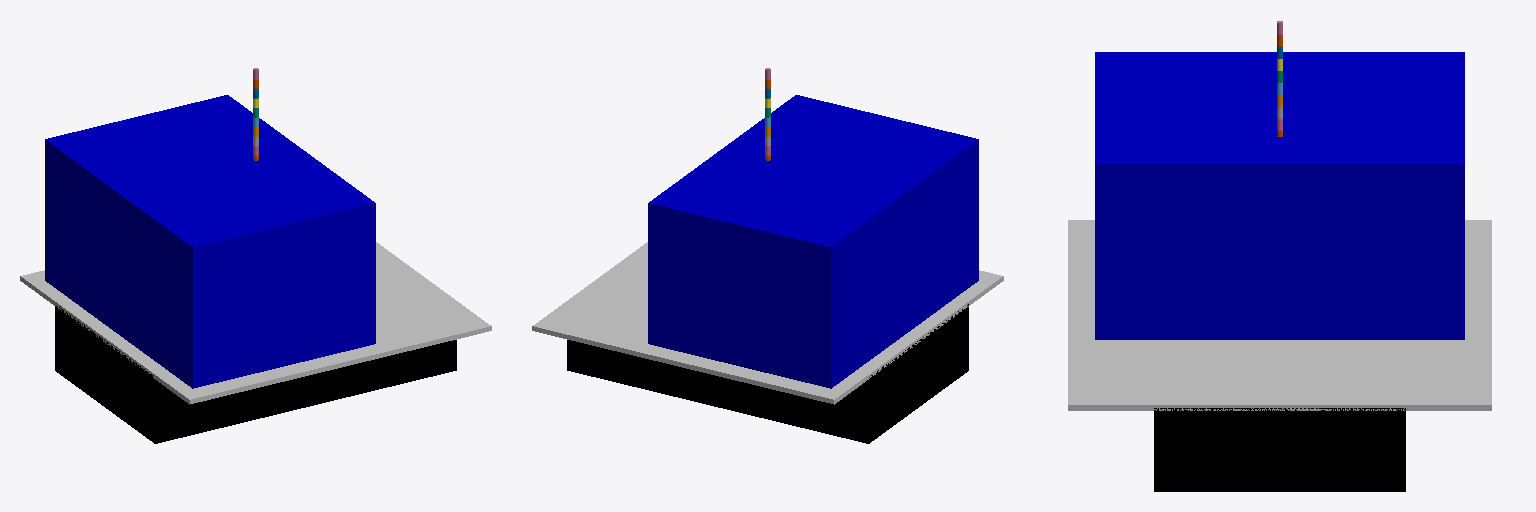
--- Render facts (derived) ---
The picture shows the robot from 3 angles, left to right: view 1: azimuth 30°, elevation 25°; view 2: azimuth 150°, elevation 25°; view 3: azimuth 270°, elevation 25°; orthographic projection.
Robot: marsupial_model — 42 links, 41 joints (2 revolute, 30 continuous, 9 fixed); root link arco/base_link; default pose: every joint at zero.
Links seen in each view (by area): view 1: arco/uav_platform, arco/base_body, arco/cover_link; view 2: arco/uav_platform, arco/base_body, arco/cover_link; view 3: arco/uav_platform, arco/cover_link, arco/base_body.
Link boxes in pixels (x1,y1,x2,y2): arco/uav_platform: (45, 95, 375, 388); arco/base_body: (55, 306, 456, 443); arco/cover_link: (20, 242, 491, 404); arco/uav_platform: (648, 95, 978, 388); arco/base_body: (567, 304, 968, 443); arco/cover_link: (532, 242, 1003, 404); arco/uav_platform: (1095, 52, 1464, 339); arco/cover_link: (1068, 220, 1491, 410); arco/base_body: (1154, 408, 1405, 491).
Bounding box of the posed robot: 0.66 × 0.64 × 0.63 m (x, y, z).
Meshes: 9 distinct files referenced, 0 mesh visuals loaded (none loaded); not drawn: 15 (reference not matched to a file when rendering).

URDF robot description (marsupial_model):
<?xml version="1.0" ?>
<!-- =================================================================================== -->
<!-- |    This document was autogenerated by xacro from arco.xacro                     | -->
<!-- |    EDITING THIS FILE BY HAND IS NOT RECOMMENDED                                 | -->
<!-- =================================================================================== -->
<robot name="marsupial_model">

<material name="black">
    <color rgba="0.0 0.0 0.0 1.0"/>
  </material>
  <material name="blue">
    <color rgba="0.0 0.0 0.8 1.0"/>
  </material>
  <material name="grey">
    <color rgba="0.8 0.8 0.8 1"/>
  </material>
  <material name="gray">
    <color rgba="0.25 0.25 0.25 1"/>
  </material>
  <material name="orange">
    <color rgba="1.0 0.4235294117647059 0.0392156862745098 1.0"/>
  </material>
  <material name="yellow">
    <color rgba="1.0 1.0 0.0 1.0"/>
  </material>
  <material name="red">
    <color rgba="0.8 0.0 0.0 1.0"/>
  </material>
  <material name="white">
    <color rgba="1.0 1.0 1.0 1.0"/>
  </material>
  <!-- ros_control plugin -->
  <gazebo>
    <plugin filename="libgazebo_ros_control.so" name="gazebo_ros_control"/>
  </gazebo>

  <selfCollide>False</selfCollide>


  <gazebo>
    <plugin filename="libgazebo_ros_planar_move_optional_tf.so" name="robot_controller">
      <commandTopic>arco/idmind_motors/set_velocities</commandTopic>
      <odometryTopic>arco/idmind_motors/gazebo_odom</odometryTopic>
      <odometryFrame>arco/odom</odometryFrame>
      <odometryRate>20.0</odometryRate>
      <robotBaseFrame>arco/base_link</robotBaseFrame>
      <publishTf>true</publishTf>
    </plugin>
  </gazebo>


    <!-- .........................................................UGV STUFF.................................................................... -->

  <link name="arco/base_link">
     <origin rpy="0.0 0.0 0.0" xyz="0 0 0.0" />
  </link>

  <link name="arco/base_body">
    <visual>
      <geometry>
        <box size="0.66 0.38 0.14"/>
      </geometry>
      <material name="black"/>
      <origin rpy="0 0 0" xyz="0 0 0.07"/>
    </visual>
    <collision>
      <geometry>
        <box size="0.66 0.38 0.14"/>
      </geometry>
      <origin rpy="0 0 0" xyz="0 0 0.07"/>
    </collision>
    <inertial>
      <mass value="200.0"/>
      <inertia ixx="2.733333333333334" ixy="0.0" ixz="0.0" iyy="7.586666666666668" iyz="0.0" izz="9.666666666666668"/>
      <origin rpy="0 0 0" xyz="0 0 0.07"/>
    </inertial>
  </link>

   <joint name="base_to_footprint" type="fixed" >
        <parent link="arco/base_link" />
        <child link="arco/base_body" />
        <origin rpy="0.0 0.0 0.0" xyz="0 0 0.0" />
    </joint>

  <link name="arco/cover_link">
    <visual>
      <geometry>
        <box size="0.66 0.64 0.01"/>
      </geometry>
      <material name="grey"/>
      <origin rpy="0 0 0" xyz="0 0 0.07"/>
    </visual>
    <collision>
      <geometry>
        <box size="0.66 0.64 0.01"/>
      </geometry>
      <origin rpy="0 0 0" xyz="0 0 0.07"/>
    </collision>
    <inertial>
      <mass value="1.0"/>
      <inertia ixx="0.03630833333333333" ixy="0.0" ixz="0.0" iyy="0.03630833333333333" iyz="0.0" izz="0.0726"/>
      <origin rpy="0 0 0" xyz="0 0 0.005"/>
    </inertial>
  </link>

  <joint name="arco_base_to_footprint" type="fixed">
    <parent link="arco/base_link"/>
    <child link="arco/cover_link"/>
    <origin rpy="0.0 0.0 0.0" xyz="0 0 0.07"/>
  </joint>

  <link name="arco/uav_platform">
    <visual>
      <geometry>
        <box size="0.4 0.56 0.3"/>
      </geometry>
      <material name="blue">
        <color rgba="0 0 0.8 1"/>
      </material>
      <origin rpy="0 0 0" xyz="-0.10 0 0.07"/>
    </visual>
    <collision>
      <geometry>
        <box size="0.4 0.56 0.3"/>
      </geometry>
      <origin rpy="0 0 0" xyz="-0.10 0 0.07"/>
    </collision>
    <inertial>
      <mass value="4.0"/>
      <inertia ixx="0.08333333333333333" ixy="0.0" ixz="0.0" iyy="0.08333333333333333" iyz="0.0" izz="0.10666666666666669"/>
      <origin rpy="0 0 0" xyz="-0.10 0 0.15"/>
    </inertial>
  </link>

  <joint name="arco_platform_for_uav" type="fixed">
    <parent link="arco/cover_link"/>
    <child link="arco/uav_platform"/>
    <origin rpy="0.0 0.0 0.0" xyz="0 0 0.15"/>
  </joint>

  <link name="arco/front_left">
    <visual>
      <geometry>
        <mesh filename="package://marsupial_description/meshes/mecanum/mecanum_wheel_left.STL" scale="0.002 0.002 0.002"/>
      </geometry>
      <origin rpy="0 0 0" xyz="0 0 0"/>
      <material name="grey"/>
    </visual>
    <collision>
      <geometry>
        <cylinder length="0.07" radius="0.1015"/>
      </geometry>
      <origin rpy="1.57 0 0" xyz="0 0 0"/>
    </collision>
    <inertial>
      <mass value="0.5"/>
      <inertia ixx="0.0014919479166666666" ixy="0" ixz="0" iyy="0.0014919479166666666" iyz="0" izz="0.0025755625"/>
      <origin rpy="1.57 0 0" xyz="0 0 0"/>
    </inertial>
  </link>

  <joint name="arco_base_to_front_left" type="continuous">
    <axis xyz="0 1 0"/>
    <limit effort="1000" velocity="75.0"/>
    <parent link="arco/base_link"/>
    <child link="arco/front_left"/>
    <joint_properties damping="30" friction="110"/>
    <origin rpy="0.0 0.0 0.0" xyz="0.2795 -0.24 0.0"/>
  </joint>

  <gazebo reference="arco/front_left">
    <material>Gazebo/Orange</material>
    <gravity>true</gravity>
    <selfCollide>false</selfCollide>
    <maxContacts>10</maxContacts>
    <dampingFactor>0.0</dampingFactor>
    <maxVel>0.0</maxVel>
    <minDepth>0.0</minDepth>
    <mu1>1.000000</mu1>
    <mu2>1.000000</mu2>
  </gazebo>

  <link name="arco/front_right">
    <visual>
      <geometry>
        <mesh filename="package://marsupial_description/meshes/mecanum/mecanum_wheel_right.STL" scale="0.002 0.002 0.002"/>
      </geometry>
      <origin rpy="0 0 0" xyz="0 0 0"/>
      <material name="grey"/>
    </visual>
    <collision>
      <geometry>
        <cylinder length="0.07" radius="0.1015"/>
      </geometry>
      <origin rpy="1.57 0 0" xyz="0 0 0"/>
    </collision>
    <inertial>
      <mass value="0.5"/>
      <inertia ixx="0.0014919479166666666" ixy="0" ixz="0" iyy="0.0014919479166666666" iyz="0" izz="0.0025755625"/>
      <origin rpy="1.57 0 0" xyz="0 0 0"/>
    </inertial>
  </link>

  <joint name="arco_base_to_front_right" type="continuous">
    <axis xyz="0 1 0"/>
    <limit effort="1000" velocity="75.0"/>
    <parent link="arco/base_link"/>
    <child link="arco/front_right"/>
    <joint_properties damping="30" friction="110"/>
    <origin rpy="0.0 0.0 0.0" xyz="0.2795 0.24 0.0"/>
  </joint>

  <gazebo reference="arco/front_right">
    <material>Gazebo/Orange</material>
    <gravity>true</gravity>
    <selfCollide>false</selfCollide>
    <maxContacts>10</maxContacts>
    <dampingFactor>0.0</dampingFactor>
    <maxVel>0.0</maxVel>
    <minDepth>0.0</minDepth>
    <mu1>1.000000</mu1>
    <mu2>1.000000</mu2>
  </gazebo>
  
  <link name="arco/rear_left">
    <visual>
      <geometry>
        <mesh filename="package://marsupial_description/meshes/mecanum/mecanum_wheel_left.STL" scale="0.002 0.002 0.002"/>
      </geometry>
      <origin rpy="0 0 0" xyz="0 0 0"/>
      <material name="grey"/>
    </visual>
    <collision>
      <geometry>
        <cylinder length="0.07" radius="0.1015"/>
      </geometry>
      <origin rpy="1.57 0 0" xyz="0 0 0"/>
    </collision>
    <inertial>
      <mass value="0.5"/>
      <inertia ixx="0.0014919479166666666" ixy="0" ixz="0" iyy="0.0014919479166666666" iyz="0" izz="0.0025755625"/>
      <origin rpy="1.57 0 0" xyz="0 0 0"/>
    </inertial>
  </link>
 
  <joint name="arco_base_to_rear_left" type="continuous">
    <axis xyz="0 1 0"/>
    <limit effort="1000" velocity="75.0"/>
    <parent link="arco/base_link"/>
    <child link="arco/rear_left"/>
    <joint_properties damping="30" friction="110"/>
    <origin rpy="0.0 0.0 0.0" xyz="-0.2795 -0.24 0.0"/>
  </joint>
  
  <gazebo reference="arco/rear_left">
    <material>Gazebo/Orange</material>
    <gravity>true</gravity>
    <selfCollide>false</selfCollide>
    <maxContacts>10</maxContacts>
    <dampingFactor>0.0</dampingFactor>
    <maxVel>0.0</maxVel>
    <minDepth>0.0</minDepth>
    <mu1>1.000000</mu1>
    <mu2>1.000000</mu2>
  </gazebo>

  <link name="arco/rear_right">
    <visual>
      <geometry>
        <mesh filename="package://marsupial_description/meshes/mecanum/mecanum_wheel_right.STL" scale="0.002 0.002 0.002"/>
      </geometry>
      <origin rpy="0 0 0" xyz="0 0 0"/>
      <material name="grey"/>
    </visual>
    <collision>
      <geometry>
        <cylinder length="0.07" radius="0.1015"/>
      </geometry>
      <origin rpy="1.57 0 0" xyz="0 0 0"/>
    </collision>
    <inertial>
      <mass value="0.5"/>
      <inertia ixx="0.0014919479166666666" ixy="0" ixz="0" iyy="0.0014919479166666666" iyz="0" izz="0.0025755625"/>
      <origin rpy="1.57 0 0" xyz="0 0 0"/>
    </inertial>
  </link>

  <joint name="arco_base_to_rear_right" type="continuous">
    <axis xyz="0 1 0"/>
    <limit effort="1000" velocity="75.0"/>
    <parent link="arco/base_link"/>
    <child link="arco/rear_right"/>
    <joint_properties damping="30" friction="110"/>
    <origin rpy="0.0 0.0 0.0" xyz="-0.2795 0.24 0.0"/>
  </joint>

  <gazebo reference="arco/rear_right">
    <material>Gazebo/Orange</material>
    <gravity>true</gravity>
    <selfCollide>false</selfCollide>
    <maxContacts>10</maxContacts>
    <dampingFactor>0.0</dampingFactor>
    <maxVel>0.0</maxVel>
    <minDepth>0.0</minDepth>
    <mu1>1.000000</mu1>
    <mu2>1.000000</mu2>
  </gazebo>

  <link name="arco/imu">
    <visual>
      <geometry>
        <mesh filename="package://marsupial_description/meshes/razor_imu/razor_imu.stl" scale="0.001 0.001 0.001"/>
      </geometry>
      <material name="red"/>
      <origin rpy="0 0 0" xyz="0 0 0"/>
    </visual>
    <collision>
      <geometry>
        <box size="0.031 0.031 0.01"/>
      </geometry>
      <origin rpy="0 0 0" xyz="0 0 0"/>
    </collision>
    <inertial>
      <mass value="0.01"/>
      <inertia ixx="8.841666666666666e-07" ixy="0.0" ixz="0.0" iyy="8.841666666666666e-07" iyz="0.0" izz="1.6016666666666666e-06"/>
      <origin rpy="0 0 0" xyz="0 0 0"/>
    </inertial>
  </link>

  <joint name="arco_base_to_imu" type="fixed">
    <parent link="arco/base_link"/>
    <child link="arco/imu"/>
    <origin rpy="0 0 0" xyz="0.12 0.0 0.1428"/>
  </joint>

  <gazebo reference="imu">
    <material>Gazebo/Red</material>
    <gravity>true</gravity>
    <sensor name="imu_sensor" type="imu">
      <always_on>true</always_on>
      <update_rate>50</update_rate>
      <visualize>true</visualize>
      <topic>__default_topic__</topic>
      <plugin filename="libgazebo_ros_imu_sensor.so" name="imu_plugin">
        <topicName>arco/imu</topicName>
        <bodyName>arco/imu</bodyName>
        <updateRateHZ>20.0</updateRateHZ>
        <gaussianNoise>0.0</gaussianNoise>
        <xyzOffset>0 0 0</xyzOffset>
        <rpyOffset>0 0 0</rpyOffset>
        <frameName>arco/imu</frameName>
      </plugin>
      <pose>0 0 0 0 0 0</pose>
    </sensor>
  </gazebo>

  <joint name="os1_sensor_base_mount_joint" type="fixed">
    <origin rpy="0 0 0" xyz="0.2795 0.0 0.14140000000000003"/>
    <parent link="arco/base_link"/>
    <child link="arco/os1_sensor_base_link"/>
  </joint>

  <link name="arco/os1_sensor_base_link">
    <inertial>
      <mass value="0.83"/>
      <origin xyz="0 0 0.03585"/>
      <inertia ixx="0.000908059425" ixy="0" ixz="0" iyy="0.000908059425" iyz="0" izz="0.0011049624"/>
    </inertial>
    <visual>
      <geometry>
        <mesh filename="package://marsupial_description/meshes/VLP16/VLP16_base_1.dae"/>
      </geometry>
    </visual>
    <visual>
      <geometry>
        <mesh filename="package://marsupial_description/meshes/VLP16/VLP16_base_2.dae"/>
      </geometry>
    </visual>
    <collision>
      <origin rpy="0 0 0" xyz="0 0 0.03585"/>
      <geometry>
        <cylinder length="0.0717" radius="0.0516"/>
      </geometry>
    </collision>
  </link>

  <joint name="arco_os1_sensor_base_scan_joint" type="fixed">
    <origin rpy="0 0 0" xyz="0 0 0.0377"/>
    <parent link="arco/os1_sensor_base_link"/>
    <child link="arco/os1_sensor"/>
  </joint>

  <link name="arco/os1_sensor">
    <inertial>
      <mass value="0.01"/>
      <origin xyz="0 0 0"/>
      <inertia ixx="1e-7" ixy="0" ixz="0" iyy="1e-7" iyz="0" izz="1e-7"/>
    </inertial>
    <visual>
      <origin xyz="0 0 -0.0377"/>
      <geometry>
        <mesh filename="package://marsupial_description/meshes/VLP16/VLP16_scan.dae"/>
      </geometry>
    </visual>
  </link>

  <!-- Gazebo requires the velodyne_gazebo_plugins package -->
  <gazebo reference="os1_sensor">
    <sensor name="os1_sensor-VLP16" type="ray">
      <pose>0 0 0 0 0 0</pose>
      <visualize>false</visualize>
      <update_rate>10</update_rate>
      <ray>
        <scan>
          <horizontal>
            <samples>1875</samples>
            <resolution>1</resolution>
            <min_angle>-3.141592653589793</min_angle>
            <max_angle>3.141592653589793</max_angle>
          </horizontal>
          <vertical>
            <samples>16</samples>
            <resolution>1</resolution>
            <min_angle>-0.2617993877991494</min_angle>
            <max_angle> 0.2617993877991494</max_angle>
          </vertical>
        </scan>
        <range>
          <min>0.3</min>
          <max>131.0</max>
          <resolution>0.001</resolution>
        </range>
        <noise>
          <type>gaussian</type>
          <mean>0.0</mean>
          <stddev>0.0</stddev>
        </noise>
      </ray>
      <plugin filename="libgazebo_ros_velodyne_laser.so" name="gazebo_ros_laser_arco">
        <topicName>arco/os1_cloud_node/points</topicName>
        <frameName>arco/os1_sensor</frameName>
        <organize_cloud>False</organize_cloud>
        <min_range>0.9</min_range>
        <max_range>130.0</max_range>
        <gaussianNoise>0.008</gaussianNoise>
      </plugin>
    </sensor>
  </gazebo>
  
 <!-- .........................................................TETHER STUFF.................................................................... -->
 
   <link name="tether/link_01">
    <visual>
      <geometry>
        <cylinder length="0.02" radius="0.005"/>
      </geometry>
      <origin rpy="0 0 0" xyz="-0.0 0.0 0"/>
      <material name="Gazebo/Grey"/>
    </visual>
    <collision>
      <geometry>
        <cylinder length="0.02" radius="0.005"/>
      </geometry>
      <origin rpy="0 0 0" xyz="-0.0 0.0 0"/>
    </collision>
    <inertial>
      <mass value="0.001"/>
      <inertia ixx="1.9791666666666667e-07" ixy="0" ixz="0" iyy="1.9791666666666667e-07" iyz="0" izz="6.250000000000001e-08"/>
      <origin rpy="0 0 0" xyz="-0.0 0.0 0"/>
    </inertial>
  </link>

    <joint name="joint_tether_1" type="continuous">
    <origin rpy="0.0 0.0 0.0" xyz="0.0 0.0 0.02"/>
    <axis xyz="0 1 1"/>
    <!-- TODO(ff): not currently set because it's not yet supported -->
    <!-- <limit effort="2000" velocity="${max_rot_velocity}" /> -->
    <parent link="arco/uav_platform"/>
    <child link="tether/link_01"/>
  </joint>

  <link name="tether/link_02">
    <visual>
      <geometry>
        <cylinder length="0.02" radius="0.005"/>
      </geometry>
      <origin rpy="0 0 0" xyz="-0.0 0.0 0"/>
      <material name="Gazebo/Grey"/>
    </visual>
    <collision>
      <geometry>
        <cylinder length="0.02" radius="0.005"/>
      </geometry>
      <origin rpy="0 0 0" xyz="-0.0 0.0 0"/>
    </collision>
    <inertial>
      <mass value="0.001"/>
      <inertia ixx="1.9791666666666667e-07" ixy="0" ixz="0" iyy="1.9791666666666667e-07" iyz="0" izz="6.250000000000001e-08"/>
      <origin rpy="0 0 0" xyz="-0.0 0.0 0"/>
    </inertial>
  </link>

  <joint name="joint_tether_2" type="continuous">
    <origin rpy="0.0 0.0 0.0" xyz="0.0 0.0 0.02"/>
    <axis xyz="0 1 1"/>
    <!-- TODO(ff): not currently set because it's not yet supported -->
    <!-- <limit effort="2000" velocity="${max_rot_velocity}" /> -->
    <parent link="tether/link_01"/>
    <child link="tether/link_02"/>
  </joint>

  <link name="tether/link_03">
    <visual>
      <geometry>
        <cylinder length="0.02" radius="0.005"/>
      </geometry>
      <origin rpy="0 0 0" xyz="-0.0 0.0 0"/>
      <material name="Gazebo/Grey"/>
    </visual>
    <collision>
      <geometry>
        <cylinder length="0.02" radius="0.005"/>
      </geometry>
      <origin rpy="0 0 0" xyz="-0.0 0.0 0"/>
    </collision>
    <inertial>
      <mass value="0.001"/>
      <inertia ixx="1.9791666666666667e-07" ixy="0" ixz="0" iyy="1.9791666666666667e-07" iyz="0" izz="6.250000000000001e-08"/>
      <origin rpy="0 0 0" xyz="-0.0 0.0 0"/>
    </inertial>
  </link>

  <joint name="joint_tether_3" type="continuous">
    <origin rpy="0.0 0.0 0.0" xyz="0.0 0.0 0.02"/>
    <axis xyz="0 1 1"/>
    <!-- TODO(ff): not currently set because it's not yet supported -->
    <!-- <limit effort="2000" velocity="${max_rot_velocity}" /> -->
    <parent link="tether/link_02"/>
    <child link="tether/link_03"/>
  </joint>

  <link name="tether/link_04">
    <visual>
      <geometry>
        <cylinder length="0.02" radius="0.005"/>
      </geometry>
      <origin rpy="0 0 0" xyz="-0.0 0.0 0"/>
      <material name="Gazebo/Grey"/>
    </visual>
    <collision>
      <geometry>
        <cylinder length="0.02" radius="0.005"/>
      </geometry>
      <origin rpy="0 0 0" xyz="-0.0 0.0 0"/>
    </collision>
    <inertial>
      <mass value="0.001"/>
      <inertia ixx="1.9791666666666667e-07" ixy="0" ixz="0" iyy="1.9791666666666667e-07" iyz="0" izz="6.250000000000001e-08"/>
      <origin rpy="0 0 0" xyz="-0.0 0.0 0"/>
    </inertial>
  </link>
  <joint name="joint_tether_4" type="continuous">
    <origin rpy="0.0 0.0 0.0" xyz="0.0 0.0 0.02"/>
    <axis xyz="0 1 1"/>
    <!-- TODO(ff): not currently set because it's not yet supported -->
    <!-- <limit effort="2000" velocity="${max_rot_velocity}" /> -->
    <parent link="tether/link_03"/>
    <child link="tether/link_04"/>
  </joint>
  <link name="tether/link_05">
    <visual>
      <geometry>
        <cylinder length="0.02" radius="0.005"/>
      </geometry>
      <origin rpy="0 0 0" xyz="-0.0 0.0 0"/>
      <material name="Gazebo/Grey"/>
    </visual>
    <collision>
      <geometry>
        <cylinder length="0.02" radius="0.005"/>
      </geometry>
      <origin rpy="0 0 0" xyz="-0.0 0.0 0"/>
    </collision>
    <inertial>
      <mass value="0.001"/>
      <inertia ixx="1.9791666666666667e-07" ixy="0" ixz="0" iyy="1.9791666666666667e-07" iyz="0" izz="6.250000000000001e-08"/>
      <origin rpy="0 0 0" xyz="-0.0 0.0 0"/>
    </inertial>
  </link>
  <joint name="joint_tether_5" type="continuous">
    <origin rpy="0.0 0.0 0.0" xyz="0.0 0.0 0.02"/>
    <axis xyz="0 1 1"/>
    <!-- TODO(ff): not currently set because it's not yet supported -->
    <!-- <limit effort="2000" velocity="${max_rot_velocity}" /> -->
    <parent link="tether/link_04"/>
    <child link="tether/link_05"/>
  </joint>
  
  <link name="tether/link_06">
    <visual>
      <geometry>
        <cylinder length="0.02" radius="0.005"/>
      </geometry>
      <origin rpy="0 0 0" xyz="-0.0 0.0 0"/>
      <material name="Gazebo/Grey"/>
    </visual>
    <collision>
      <geometry>
        <cylinder length="0.02" radius="0.005"/>
      </geometry>
      <origin rpy="0 0 0" xyz="-0.0 0.0 0"/>
    </collision>
    <inertial>
      <mass value="0.001"/>
      <inertia ixx="1.9791666666666667e-07" ixy="0" ixz="0" iyy="1.9791666666666667e-07" iyz="0" izz="6.250000000000001e-08"/>
      <origin rpy="0 0 0" xyz="-0.0 0.0 0"/>
    </inertial>
  </link>
  <joint name="joint_tether_6" type="continuous">
    <origin rpy="0.0 0.0 0.0" xyz="0.0 0.0 0.02"/>
    <axis xyz="0 1 1"/>
    <!-- TODO(ff): not currently set because it's not yet supported -->
    <!-- <limit effort="2000" velocity="${max_rot_velocity}" /> -->
    <parent link="tether/link_05"/>
    <child link="tether/link_06"/>
  </joint>
  <link name="tether/link_07">
    <visual>
      <geometry>
        <cylinder length="0.02" radius="0.005"/>
      </geometry>
      <origin rpy="0 0 0" xyz="-0.0 0.0 0"/>
      <material name="Gazebo/Grey"/>
    </visual>
    <collision>
      <geometry>
        <cylinder length="0.02" radius="0.005"/>
      </geometry>
      <origin rpy="0 0 0" xyz="-0.0 0.0 0"/>
    </collision>
    <inertial>
      <mass value="0.001"/>
      <inertia ixx="1.9791666666666667e-07" ixy="0" ixz="0" iyy="1.9791666666666667e-07" iyz="0" izz="6.250000000000001e-08"/>
      <origin rpy="0 0 0" xyz="-0.0 0.0 0"/>
    </inertial>
  </link>
  <joint name="joint_tether_7" type="continuous">
    <origin rpy="0.0 0.0 0.0" xyz="0.0 0.0 0.02"/>
    <axis xyz="0 1 1"/>
    <!-- TODO(ff): not currently set because it's not yet supported -->
    <!-- <limit effort="2000" velocity="${max_rot_velocity}" /> -->
    <parent link="tether/link_06"/>
    <child link="tether/link_07"/>
  </joint>
  <link name="tether/link_08">
    <visual>
      <geometry>
        <cylinder length="0.02" radius="0.005"/>
      </geometry>
      <origin rpy="0 0 0" xyz="-0.0 0.0 0"/>
      <material name="Gazebo/Grey"/>
    </visual>
    <collision>
      <geometry>
        <cylinder length="0.02" radius="0.005"/>
      </geometry>
      <origin rpy="0 0 0" xyz="-0.0 0.0 0"/>
    </collision>
    <inertial>
      <mass value="0.001"/>
      <inertia ixx="1.9791666666666667e-07" ixy="0" ixz="0" iyy="1.9791666666666667e-07" iyz="0" izz="6.250000000000001e-08"/>
      <origin rpy="0 0 0" xyz="-0.0 0.0 0"/>
    </inertial>
  </link>
  <joint name="joint_tether_8" type="continuous">
    <origin rpy="0.0 0.0 0.0" xyz="0.0 0.0 0.02"/>
    <axis xyz="0 1 1"/>
    <!-- TODO(ff): not currently set because it's not yet supported -->
    <!-- <limit effort="2000" velocity="${max_rot_velocity}" /> -->
    <parent link="tether/link_07"/>
    <child link="tether/link_08"/>
  </joint>
  <link name="tether/link_09">
    <visual>
      <geometry>
        <cylinder length="0.02" radius="0.005"/>
      </geometry>
      <origin rpy="0 0 0" xyz="-0.0 0.0 0"/>
      <material name="Gazebo/Grey"/>
    </visual>
    <collision>
      <geometry>
        <cylinder length="0.02" radius="0.005"/>
      </geometry>
      <origin rpy="0 0 0" xyz="-0.0 0.0 0"/>
    </collision>
    <inertial>
      <mass value="0.001"/>
      <inertia ixx="1.9791666666666667e-07" ixy="0" ixz="0" iyy="1.9791666666666667e-07" iyz="0" izz="6.250000000000001e-08"/>
      <origin rpy="0 0 0" xyz="-0.0 0.0 0"/>
    </inertial>
  </link>
  <joint name="joint_tether_9" type="continuous">
    <origin rpy="0.0 0.0 0.0" xyz="0.0 0.0 0.02"/>
    <axis xyz="0 1 1"/>
    <!-- TODO(ff): not currently set because it's not yet supported -->
    <!-- <limit effort="2000" velocity="${max_rot_velocity}" /> -->
    <parent link="tether/link_08"/>
    <child link="tether/link_09"/>
  </joint>
  <link name="tether/link_10">
    <visual>
      <geometry>
        <cylinder length="0.02" radius="0.005"/>
      </geometry>
      <origin rpy="0 0 0" xyz="-0.0 0.0 0"/>
      <material name="Gazebo/Grey"/>
    </visual>
    <collision>
      <geometry>
        <cylinder length="0.02" radius="0.005"/>
      </geometry>
      <origin rpy="0 0 0" xyz="-0.0 0.0 0"/>
    </collision>
    <inertial>
      <mass value="0.001"/>
      <inertia ixx="1.9791666666666667e-07" ixy="0" ixz="0" iyy="1.9791666666666667e-07" iyz="0" izz="6.250000000000001e-08"/>
      <origin rpy="0 0 0" xyz="-0.0 0.0 0"/>
    </inertial>
  </link>
  <joint name="joint_tether_10" type="continuous">
    <origin rpy="0.0 0.0 0.0" xyz="0.0 0.0 0.02"/>
    <axis xyz="0 1 1"/>
    <!-- TODO(ff): not currently set because it's not yet supported -->
    <!-- <limit effort="2000" velocity="${max_rot_velocity}" /> -->
    <parent link="tether/link_09"/>
    <child link="tether/link_10"/>
  </joint>
  <link name="tether/link_11">
    <visual>
      <geometry>
        <cylinder length="0.02" radius="0.005"/>
      </geometry>
      <origin rpy="0 0 0" xyz="-0.0 0.0 0"/>
      <material name="Gazebo/Grey"/>
    </visual>
    <collision>
      <geometry>
        <cylinder length="0.02" radius="0.005"/>
      </geometry>
      <origin rpy="0 0 0" xyz="-0.0 0.0 0"/>
    </collision>
    <inertial>
      <mass value="0.001"/>
      <inertia ixx="1.9791666666666667e-07" ixy="0" ixz="0" iyy="1.9791666666666667e-07" iyz="0" izz="6.250000000000001e-08"/>
      <origin rpy="0 0 0" xyz="-0.0 0.0 0"/>
    </inertial>
  </link>
  <joint name="joint_tether_11" type="continuous">
    <origin rpy="0.0 0.0 0.0" xyz="0.0 0.0 0.02"/>
    <axis xyz="0 1 1"/>
    <!-- TODO(ff): not currently set because it's not yet supported -->
    <!-- <limit effort="2000" velocity="${max_rot_velocity}" /> -->
    <parent link="tether/link_10"/>
    <child link="tether/link_11"/>
  </joint>
  <link name="tether/link_12">
    <visual>
      <geometry>
        <cylinder length="0.02" radius="0.005"/>
      </geometry>
      <origin rpy="0 0 0" xyz="-0.0 0.0 0"/>
      <material name="Gazebo/Grey"/>
    </visual>
    <collision>
      <geometry>
        <cylinder length="0.02" radius="0.005"/>
      </geometry>
      <origin rpy="0 0 0" xyz="-0.0 0.0 0"/>
    </collision>
    <inertial>
      <mass value="0.001"/>
      <inertia ixx="1.9791666666666667e-07" ixy="0" ixz="0" iyy="1.9791666666666667e-07" iyz="0" izz="6.250000000000001e-08"/>
      <origin rpy="0 0 0" xyz="-0.0 0.0 0"/>
    </inertial>
  </link>
  <joint name="joint_tether_12" type="continuous">
    <origin rpy="0.0 0.0 0.0" xyz="0.0 0.0 0.02"/>
    <axis xyz="0 1 1"/>
    <!-- TODO(ff): not currently set because it's not yet supported -->
    <!-- <limit effort="2000" velocity="${max_rot_velocity}" /> -->
    <parent link="tether/link_11"/>
    <child link="tether/link_12"/>
  </joint>
  <link name="tether/link_13">
    <visual>
      <geometry>
        <cylinder length="0.02" radius="0.005"/>
      </geometry>
      <origin rpy="0 0 0" xyz="-0.0 0.0 0"/>
      <material name="Gazebo/Grey"/>
    </visual>
    <collision>
      <geometry>
        <cylinder length="0.02" radius="0.005"/>
      </geometry>
      <origin rpy="0 0 0" xyz="-0.0 0.0 0"/>
    </collision>
    <inertial>
      <mass value="0.001"/>
      <inertia ixx="1.9791666666666667e-07" ixy="0" ixz="0" iyy="1.9791666666666667e-07" iyz="0" izz="6.250000000000001e-08"/>
      <origin rpy="0 0 0" xyz="-0.0 0.0 0"/>
    </inertial>
  </link>
  <joint name="joint_tether_13" type="continuous">
    <origin rpy="0.0 0.0 0.0" xyz="0.0 0.0 0.02"/>
    <axis xyz="0 1 1"/>
    <!-- TODO(ff): not currently set because it's not yet supported -->
    <!-- <limit effort="2000" velocity="${max_rot_velocity}" /> -->
    <parent link="tether/link_12"/>
    <child link="tether/link_13"/>
  </joint>
  <link name="tether/link_14">
    <visual>
      <geometry>
        <cylinder length="0.02" radius="0.005"/>
      </geometry>
      <origin rpy="0 0 0" xyz="-0.0 0.0 0"/>
      <material name="Gazebo/Grey"/>
    </visual>
    <collision>
      <geometry>
        <cylinder length="0.02" radius="0.005"/>
      </geometry>
      <origin rpy="0 0 0" xyz="-0.0 0.0 0"/>
    </collision>
    <inertial>
      <mass value="0.001"/>
      <inertia ixx="1.9791666666666667e-07" ixy="0" ixz="0" iyy="1.9791666666666667e-07" iyz="0" izz="6.250000000000001e-08"/>
      <origin rpy="0 0 0" xyz="-0.0 0.0 0"/>
    </inertial>
  </link>
  <joint name="joint_tether_14" type="continuous">
    <origin rpy="0.0 0.0 0.0" xyz="0.0 0.0 0.02"/>
    <axis xyz="0 1 1"/>
    <!-- TODO(ff): not currently set because it's not yet supported -->
    <!-- <limit effort="2000" velocity="${max_rot_velocity}" /> -->
    <parent link="tether/link_13"/>
    <child link="tether/link_14"/>
  </joint>
  <link name="tether/link_15">
    <visual>
      <geometry>
        <cylinder length="0.02" radius="0.005"/>
      </geometry>
      <origin rpy="0 0 0" xyz="-0.0 0.0 0"/>
      <material name="Gazebo/Grey"/>
    </visual>
    <collision>
      <geometry>
        <cylinder length="0.02" radius="0.005"/>
      </geometry>
      <origin rpy="0 0 0" xyz="-0.0 0.0 0"/>
    </collision>
    <inertial>
      <mass value="0.001"/>
      <inertia ixx="1.9791666666666667e-07" ixy="0" ixz="0" iyy="1.9791666666666667e-07" iyz="0" izz="6.250000000000001e-08"/>
      <origin rpy="0 0 0" xyz="-0.0 0.0 0"/>
    </inertial>
  </link>
  <joint name="joint_tether_15" type="continuous">
    <origin rpy="0.0 0.0 0.0" xyz="0.0 0.0 0.02"/>
    <axis xyz="0 1 1"/>
    <!-- TODO(ff): not currently set because it's not yet supported -->
    <!-- <limit effort="2000" velocity="${max_rot_velocity}" /> -->
    <parent link="tether/link_14"/>
    <child link="tether/link_15"/>
  </joint>

  <link name="tether/link_16">
    <visual>
      <geometry>
        <cylinder length="0.02" radius="0.005"/>
      </geometry>
      <origin rpy="0 0 0" xyz="-0.0 0.0 0"/>
      <material name="Gazebo/Grey"/>
    </visual>
    <collision>
      <geometry>
        <cylinder length="0.02" radius="0.005"/>
      </geometry>
      <origin rpy="0 0 0" xyz="-0.0 0.0 0"/>
    </collision>
    <inertial>
      <mass value="0.001"/>
      <inertia ixx="1.9791666666666667e-07" ixy="0" ixz="0" iyy="1.9791666666666667e-07" iyz="0" izz="6.250000000000001e-08"/>
      <origin rpy="0 0 0" xyz="-0.0 0.0 0"/>
    </inertial>
  </link>
  <joint name="joint_tether_16" type="continuous">
    <origin rpy="0.0 0.0 0.0" xyz="0.0 0.0 0.02"/>
    <axis xyz="0 1 1"/>
    <!-- TODO(ff): not currently set because it's not yet supported -->
    <!-- <limit effort="2000" velocity="${max_rot_velocity}" /> -->
    <parent link="tether/link_15"/>
    <child link="tether/link_16"/>
  </joint>
  <link name="tether/link_17">
    <visual>
      <geometry>
        <cylinder length="0.02" radius="0.005"/>
      </geometry>
      <origin rpy="0 0 0" xyz="-0.0 0.0 0"/>
      <material name="Gazebo/Grey"/>
    </visual>
    <collision>
      <geometry>
        <cylinder length="0.02" radius="0.005"/>
      </geometry>
      <origin rpy="0 0 0" xyz="-0.0 0.0 0"/>
    </collision>
    <inertial>
      <mass value="0.001"/>
      <inertia ixx="1.9791666666666667e-07" ixy="0" ixz="0" iyy="1.9791666666666667e-07" iyz="0" izz="6.250000000000001e-08"/>
      <origin rpy="0 0 0" xyz="-0.0 0.0 0"/>
    </inertial>
  </link>
  <joint name="joint_tether_17" type="continuous">
    <origin rpy="0.0 0.0 0.0" xyz="0.0 0.0 0.02"/>
    <axis xyz="0 1 1"/>
    <!-- TODO(ff): not currently set because it's not yet supported -->
    <!-- <limit effort="2000" velocity="${max_rot_velocity}" /> -->
    <parent link="tether/link_16"/>
    <child link="tether/link_17"/>
  </joint>
  <link name="tether/link_18">
    <visual>
      <geometry>
        <cylinder length="0.02" radius="0.005"/>
      </geometry>
      <origin rpy="0 0 0" xyz="-0.0 0.0 0"/>
      <material name="Gazebo/Grey"/>
    </visual>
    <collision>
      <geometry>
        <cylinder length="0.02" radius="0.005"/>
      </geometry>
      <origin rpy="0 0 0" xyz="-0.0 0.0 0"/>
    </collision>
    <inertial>
      <mass value="0.001"/>
      <inertia ixx="1.9791666666666667e-07" ixy="0" ixz="0" iyy="1.9791666666666667e-07" iyz="0" izz="6.250000000000001e-08"/>
      <origin rpy="0 0 0" xyz="-0.0 0.0 0"/>
    </inertial>
  </link>
  <joint name="joint_tether_18" type="continuous">
    <origin rpy="0.0 0.0 0.0" xyz="0.0 0.0 0.02"/>
    <axis xyz="0 1 1"/>
    <!-- TODO(ff): not currently set because it's not yet supported -->
    <!-- <limit effort="2000" velocity="${max_rot_velocity}" /> -->
    <parent link="tether/link_17"/>
    <child link="tether/link_18"/>
  </joint>
  <link name="tether/link_19">
    <visual>
      <geometry>
        <cylinder length="0.02" radius="0.005"/>
      </geometry>
      <origin rpy="0 0 0" xyz="-0.0 0.0 0"/>
      <material name="Gazebo/Grey"/>
    </visual>
    <collision>
      <geometry>
        <cylinder length="0.02" radius="0.005"/>
      </geometry>
      <origin rpy="0 0 0" xyz="-0.0 0.0 0"/>
    </collision>
    <inertial>
      <mass value="0.001"/>
      <inertia ixx="1.9791666666666667e-07" ixy="0" ixz="0" iyy="1.9791666666666667e-07" iyz="0" izz="6.250000000000001e-08"/>
      <origin rpy="0 0 0" xyz="-0.0 0.0 0"/>
    </inertial>
  </link>
  <joint name="joint_tether_19" type="continuous">
    <origin rpy="0.0 0.0 0.0" xyz="0.0 0.0 0.02"/>
    <axis xyz="0 1 1"/>
    <!-- TODO(ff): not currently set because it's not yet supported -->
    <!-- <limit effort="2000" velocity="${max_rot_velocity}" /> -->
    <parent link="tether/link_18"/>
    <child link="tether/link_19"/>
  </joint>
  
  <link name="tether/link_20">
    <visual>
      <geometry>
        <cylinder length="0.02" radius="0.005"/>
      </geometry>
      <origin rpy="0 0 0" xyz="-0.0 0.0 0"/>
      <material name="Gazebo/Grey"/>
    </visual>
    <collision>
      <geometry>
        <cylinder length="0.02" radius="0.005"/>
      </geometry>
      <origin rpy="0 0 0" xyz="-0.0 0.0 0"/>
    </collision>
    <inertial>
      <mass value="0.001"/>
      <inertia ixx="1.9791666666666667e-07" ixy="0" ixz="0" iyy="1.9791666666666667e-07" iyz="0" izz="6.250000000000001e-08"/>
      <origin rpy="0 0 0" xyz="-0.0 0.0 0"/>
    </inertial>
  </link>
  <joint name="joint_tether_20" type="continuous">
    <origin rpy="0.0 0.0 0.0" xyz="0.0 0.0 0.02"/>
    <axis xyz="0 1 1"/>
    <!-- TODO(ff): not currently set because it's not yet supported -->
    <!-- <limit effort="2000" velocity="${max_rot_velocity}" /> -->
    <parent link="tether/link_19"/>
    <child link="tether/link_20"/>
  </joint>

  <gazebo>
    <plugin filename="libgazebo_ros_modelate_tether.so" name="gazebo_ros_modelate_tether">
      <namespace>marsupial_tether</namespace>
      <numLinkTether>20</numLinkTether>
      <nameLinkFrame>link_tether</nameLinkFrame>
      <initLengthTether>0.5</initLengthTether>  <!-- Initial Tether length given by distance between UGV and UAV -->
    </plugin>
  </gazebo>
 
 <!-- .........................................................UAV STUFF.................................................................... -->
 
  <!-- <link name="firefly/base_link"/> -->

  <!-- <joint name="joint_tether_21" type="fixed">
    <origin rpy="0 0 0" xyz="0 0 0.1"/>
    <parent link="link_tether_20"/>
    <child link="firefly/base_link"/>
  </joint>   -->
  

  <link name="firefly/base_link">
    <inertial>
      <mass value="1.5"/>
      <!-- [kg] -->
      <origin xyz="0 0 0"/>
      <inertia ixx="0.0347563" ixy="0.0" ixz="0.0" iyy="0.0458929" iyz="0.0" izz="0.0977"/>
    </inertial>
    <visual>
      <origin rpy="0 0 0" xyz="0 0 0"/>
      <geometry>
        <mesh filename="package://marsupial_description/meshes/uav/firefly.dae" scale="1 1 1"/>
      </geometry>
    </visual>
    <collision>
      <origin rpy="0 0 0" xyz="0 0 0"/>
      <geometry>
        <box size="0.1 0.1 0.16"/>
        <!-- [m] [m] [m] -->
      </geometry>
    </collision>
  </link>

  <joint name="tether_to_uav" type="fixed">
    <origin rpy="0 0 0" xyz="0 0 0"/>
    <parent link="tether/link_20"/>
    <child link="firefly/base_link"/>
  </joint>

  <!-- <joint name="firefly/base_joint" type="fixed">
    <origin rpy="0 0 0" xyz="0 0 0"/>
    <parent link="firefly/base_link"/>
    <child link="firefly/base_link_inertia"/>
  </joint> -->

  <!-- attach multirotor_base_plugin to the base_link -->
  <gazebo>
    <plugin filename="librotors_gazebo_multirotor_base_plugin.so" name="multirotor_base_plugin">
      <robotNamespace>firefly</robotNamespace>
      <linkName>firefly/base_link</linkName>
      <rotorVelocitySlowdownSim>10</rotorVelocitySlowdownSim>
    </plugin>
  </gazebo>

  <joint name="firefly/rotor_0_joint" type="continuous">
    <origin rpy="0 0 0" xyz="0.18619546181355998 0.1075 0.037"/>
    <axis xyz="0 0 1"/>
    <parent link="firefly/base_link"/>
    <child link="firefly/rotor_0"/>
  </joint>

  <link name="firefly/rotor_0">
    <inertial>
      <mass value="0.005"/>
      <!-- [kg] -->
      <inertia ixx="9.7499961e-07" ixy="0.0" ixz="0.0" iyy="4.170414998500001e-05" iyz="0.0" izz="4.2604149625000006e-05"/>
    </inertial>
    <visual>
      <geometry>
        <mesh filename="package://marsupial_description/meshes/uav/propeller_ccw.dae" scale="0.1 0.1 0.1"/>
      </geometry>
    </visual>
    <collision>
      <geometry>
        <cylinder length="0.005" radius="0.1"/>
        <!-- [m] -->
      </geometry>
    </collision>
  </link>

  <gazebo>
    <plugin filename="librotors_gazebo_motor_model.so" name="firefly_front_left_motor_model">
      <robotNamespace>firefly</robotNamespace>
      <jointName>firefly/rotor_0_joint</jointName>
      <linkName>firefly/rotor_0</linkName>
      <turningDirection>ccw</turningDirection>
      <timeConstantUp>0.0125</timeConstantUp>
      <timeConstantDown>0.025</timeConstantDown>
      <maxRotVelocity>838</maxRotVelocity>
      <motorConstant>8.54858e-06</motorConstant>
      <momentConstant>0.016</momentConstant>
      <commandSubTopic>gazebo/command/motor_speed</commandSubTopic>
      <motorNumber>0</motorNumber>
      <rotorDragCoefficient>8.06428e-05</rotorDragCoefficient>
      <rollingMomentCoefficient>1e-06</rollingMomentCoefficient>
      <motorSpeedPubTopic>motor_speed/0</motorSpeedPubTopic>
      <rotorVelocitySlowdownSim>10</rotorVelocitySlowdownSim>
    </plugin>
  </gazebo>

  <gazebo reference="firefly/rotor_0">
    <material>Gazebo/Red</material>
  </gazebo>
  <joint name="firefly/rotor_1_joint" type="continuous">
    <origin rpy="0 0 0" xyz="0 0.215 0.037"/>
    <axis xyz="0 0 1"/>
    <!-- TODO(ff): not currently set because it's not yet supported -->
    <!-- <limit effort="2000" velocity="${max_rot_velocity}" /> -->
    <parent link="firefly/base_link"/>
    <child link="firefly/rotor_1"/>
  </joint>
  <link name="firefly/rotor_1">
    <inertial>
      <mass value="0.005"/>
      <!-- [kg] -->
      <inertia ixx="9.7499961e-07" ixy="0.0" ixz="0.0" iyy="4.170414998500001e-05" iyz="0.0" izz="4.2604149625000006e-05"/>
    </inertial>
    <visual>
      <geometry>
        <mesh filename="package://marsupial_description/meshes/uav/propeller_cw.dae" scale="0.1 0.1 0.1"/>
        <!-- The propeller meshes have a radius of 1m -->
        <!-- <box size="${2*radius_rotor} 0.01 0.005"/> -->
      </geometry>
    </visual>
    <collision>
      <geometry>
        <cylinder length="0.005" radius="0.1"/>
        <!-- [m] -->
      </geometry>
    </collision>
  </link>
  <gazebo>
  
    <plugin filename="librotors_gazebo_motor_model.so" name="firefly_left_motor_model">
      <robotNamespace>firefly</robotNamespace>
      <jointName>firefly/rotor_1_joint</jointName>
      <linkName>firefly/rotor_1</linkName>
      <turningDirection>cw</turningDirection>
      <timeConstantUp>0.0125</timeConstantUp>
      <timeConstantDown>0.025</timeConstantDown>
      <maxRotVelocity>838</maxRotVelocity>
      <motorConstant>8.54858e-06</motorConstant>
      <momentConstant>0.016</momentConstant>
      <commandSubTopic>gazebo/command/motor_speed</commandSubTopic>
      <motorNumber>1</motorNumber>
      <rotorDragCoefficient>8.06428e-05</rotorDragCoefficient>
      <rollingMomentCoefficient>1e-06</rollingMomentCoefficient>
      <motorSpeedPubTopic>motor_speed/1</motorSpeedPubTopic>
      <rotorVelocitySlowdownSim>10</rotorVelocitySlowdownSim>
    </plugin>
  </gazebo>

  <gazebo reference="firefly/rotor_1">
    <material>Gazebo/Blue</material>
  </gazebo>

  <joint name="firefly/rotor_2_joint" type="continuous">
    <origin rpy="0 0 0" xyz="-0.18619546181355998 0.1075 0.037"/>
    <axis xyz="0 0 1"/>
    <parent link="firefly/base_link"/>
    <child link="firefly/rotor_2"/>
  </joint>
  <link name="firefly/rotor_2">
    <inertial>
      <mass value="0.005"/>
      <!-- [kg] -->
      <inertia ixx="9.7499961e-07" ixy="0.0" ixz="0.0" iyy="4.170414998500001e-05" iyz="0.0" izz="4.2604149625000006e-05"/>
    </inertial>
    <visual>
      <geometry>
        <mesh filename="package://marsupial_description/meshes/uav/propeller_ccw.dae" scale="0.1 0.1 0.1"/>
      </geometry>
    </visual>
    <collision>
      <geometry>
        <cylinder length="0.005" radius="0.1"/>
        <!-- [m] -->
      </geometry>
    </collision>
  </link>

  <gazebo>
    <plugin filename="librotors_gazebo_motor_model.so" name="firefly_back_left_motor_model">
      <robotNamespace>firefly</robotNamespace>
      <jointName>firefly/rotor_2_joint</jointName>
      <linkName>firefly/rotor_2</linkName>
      <turningDirection>ccw</turningDirection>
      <timeConstantUp>0.0125</timeConstantUp>
      <timeConstantDown>0.025</timeConstantDown>
      <maxRotVelocity>838</maxRotVelocity>
      <motorConstant>8.54858e-06</motorConstant>
      <momentConstant>0.016</momentConstant>
      <commandSubTopic>gazebo/command/motor_speed</commandSubTopic>
      <motorNumber>2</motorNumber>
      <rotorDragCoefficient>8.06428e-05</rotorDragCoefficient>
      <rollingMomentCoefficient>1e-06</rollingMomentCoefficient>
      <motorSpeedPubTopic>motor_speed/2</motorSpeedPubTopic>
      <rotorVelocitySlowdownSim>10</rotorVelocitySlowdownSim>
    </plugin>
  </gazebo>

  <gazebo reference="firefly/rotor_2">
    <material>Gazebo/Blue</material>
  </gazebo>

  <joint name="firefly/rotor_3_joint" type="continuous">
    <origin rpy="0 0 0" xyz="-0.18619546181355998 -0.1075 0.037"/>
    <axis xyz="0 0 1"/>
    <parent link="firefly/base_link"/>
    <child link="firefly/rotor_3"/>
  </joint>

  <link name="firefly/rotor_3">
    <inertial>
      <mass value="0.005"/>
      <!-- [kg] -->
      <inertia ixx="9.7499961e-07" ixy="0.0" ixz="0.0" iyy="4.170414998500001e-05" iyz="0.0" izz="4.2604149625000006e-05"/>
    </inertial>
    <visual>
      <geometry>
        <mesh filename="package://marsupial_description/meshes/uav/propeller_cw.dae" scale="0.1 0.1 0.1"/>
      </geometry>
    </visual>
    <collision>
      <geometry>
        <cylinder length="0.005" radius="0.1"/>
        <!-- [m] -->
      </geometry>
    </collision>
  </link>

  <gazebo>
    <plugin filename="librotors_gazebo_motor_model.so" name="firefly_back_right_motor_model">
      <robotNamespace>firefly</robotNamespace>
      <jointName>firefly/rotor_3_joint</jointName>
      <linkName>firefly/rotor_3</linkName>
      <turningDirection>cw</turningDirection>
      <timeConstantUp>0.0125</timeConstantUp>
      <timeConstantDown>0.025</timeConstantDown>
      <maxRotVelocity>838</maxRotVelocity>
      <motorConstant>8.54858e-06</motorConstant>
      <momentConstant>0.016</momentConstant>
      <commandSubTopic>gazebo/command/motor_speed</commandSubTopic>
      <motorNumber>3</motorNumber>
      <rotorDragCoefficient>8.06428e-05</rotorDragCoefficient>
      <rollingMomentCoefficient>1e-06</rollingMomentCoefficient>
      <motorSpeedPubTopic>motor_speed/3</motorSpeedPubTopic>
      <rotorVelocitySlowdownSim>10</rotorVelocitySlowdownSim>
    </plugin>
  </gazebo>

  <gazebo reference="firefly/rotor_3">
    <material>Gazebo/Blue</material>
  </gazebo>

  <joint name="firefly/rotor_4_joint" type="continuous">
    <origin rpy="0 0 0" xyz="0 -0.215 0.037"/>
    <axis xyz="0 0 1"/>
    <parent link="firefly/base_link"/>
    <child link="firefly/rotor_4"/>
  </joint>

  <link name="firefly/rotor_4">
    <inertial>
      <mass value="0.005"/>
      <!-- [kg] -->
      <inertia ixx="9.7499961e-07" ixy="0.0" ixz="0.0" iyy="4.170414998500001e-05" iyz="0.0" izz="4.2604149625000006e-05"/>
    </inertial>
    <visual>
      <geometry>
        <mesh filename="package://marsupial_description/meshes/uav/propeller_ccw.dae" scale="0.1 0.1 0.1"/>
      </geometry>
    </visual>
    <collision>
      <geometry>
        <cylinder length="0.005" radius="0.1"/>
        <!-- [m] -->
      </geometry>
    </collision>
  </link>

  <gazebo>
    <plugin filename="librotors_gazebo_motor_model.so" name="firefly_right_motor_model">
      <robotNamespace>firefly</robotNamespace>
      <jointName>firefly/rotor_4_joint</jointName>
      <linkName>firefly/rotor_4</linkName>
      <turningDirection>ccw</turningDirection>
      <timeConstantUp>0.0125</timeConstantUp>
      <timeConstantDown>0.025</timeConstantDown>
      <maxRotVelocity>838</maxRotVelocity>
      <motorConstant>8.54858e-06</motorConstant>
      <momentConstant>0.016</momentConstant>
      <commandSubTopic>gazebo/command/motor_speed</commandSubTopic>
      <motorNumber>4</motorNumber>
      <rotorDragCoefficient>8.06428e-05</rotorDragCoefficient>
      <rollingMomentCoefficient>1e-06</rollingMomentCoefficient>
      <motorSpeedPubTopic>motor_speed/4</motorSpeedPubTopic>
      <rotorVelocitySlowdownSim>10</rotorVelocitySlowdownSim>
    </plugin>
  </gazebo>

  <gazebo reference="firefly/rotor_4">
    <material>Gazebo/Blue</material>
  </gazebo>

  <joint name="firefly/rotor_5_joint" type="continuous">
    <origin rpy="0 0 0" xyz="0.18619546181355998 -0.1075 0.037"/>
    <axis xyz="0 0 1"/>
    <parent link="firefly/base_link"/>
    <child link="firefly/rotor_5"/>
  </joint>

  <link name="firefly/rotor_5">
    <inertial>
      <mass value="0.005"/>
      <!-- [kg] -->
      <inertia ixx="9.7499961e-07" ixy="0.0" ixz="0.0" iyy="4.170414998500001e-05" iyz="0.0" izz="4.2604149625000006e-05"/>
    </inertial>
    <visual>
      <geometry>
        <mesh filename="package://marsupial_description/meshes/uav/propeller_cw.dae" scale="0.1 0.1 0.1"/>
      </geometry>
    </visual>
    <collision>
      <geometry>
        <cylinder length="0.005" radius="0.1"/>
        <!-- [m] -->
      </geometry>
    </collision>
  </link>

  <gazebo>
    <plugin filename="librotors_gazebo_motor_model.so" name="firefly_front_right_motor_model">
      <robotNamespace>firefly</robotNamespace>
      <jointName>firefly/rotor_5_joint</jointName>
      <linkName>firefly/rotor_5</linkName>
      <turningDirection>cw</turningDirection>
      <timeConstantUp>0.0125</timeConstantUp>
      <timeConstantDown>0.025</timeConstantDown>
      <maxRotVelocity>838</maxRotVelocity>
      <motorConstant>8.54858e-06</motorConstant>
      <momentConstant>0.016</momentConstant>
      <commandSubTopic>gazebo/command/motor_speed</commandSubTopic>
      <motorNumber>5</motorNumber>
      <rotorDragCoefficient>8.06428e-05</rotorDragCoefficient>
      <rollingMomentCoefficient>1e-06</rollingMomentCoefficient>
      <motorSpeedPubTopic>motor_speed/5</motorSpeedPubTopic>
      <rotorVelocitySlowdownSim>10</rotorVelocitySlowdownSim>
    </plugin>
  </gazebo>

  <gazebo reference="firefly/rotor_5">
    <material>Gazebo/Red</material>
  </gazebo>

  <gazebo>
    <plugin filename="librotors_gazebo_controller_interface.so" name="controller_interface">
      <robotNamespace>firefly</robotNamespace>
      <commandAttitudeThrustSubTopic>command/attitude</commandAttitudeThrustSubTopic>
      <commandRateThrustSubTopic>command/rate</commandRateThrustSubTopic>
      <commandMotorSpeedSubTopic>command/motor_speed</commandMotorSpeedSubTopic>
      <imuSubTopic>imu</imuSubTopic>
      <motorSpeedCommandPubTopic>gazebo/command/motor_speed</motorSpeedCommandPubTopic>
    </plugin>
  </gazebo>

  <!-- Instantiate a ROS message interface -->
  <!-- <xacro:ros_interface_plugin_macro namespace="firefly" />-->
  <!-- IMU link -->
  <link name="firefly/imu_link">
    <inertial>
      <inertia ixx="0.00001" ixy="0.0" ixz="0.0" iyy="0.00001" iyz="0.0" izz="0.00001"/>
      <mass value="0.015"/>
      <!-- [kg] -->
      <origin rpy="0 0 0" xyz="0 0 0"/>
    </inertial>
  </link>

  <!-- IMU joint -->
  <joint name="firefly/imu_joint" type="revolute">
    <origin rpy="0 0 0" xyz="0 0 0"/>
    <parent link="firefly/base_link"/>
    <child link="firefly/imu_link"/>
    <limit effort="0" lower="0" upper="0" velocity="0"/>
  </joint>

  <gazebo>
    <plugin filename="librotors_gazebo_imu_plugin.so" name="rotors_gazebo_imu_plugin">
      <!-- A good description of the IMU parameters can be found in the kalibr documentation:
           https://github.com/ethz-asl/kalibr/wiki/IMU-Noise-Model-and-Intrinsics -->
      <robotNamespace>firefly</robotNamespace>
      <!-- (string, required): ros namespace in which the messages are published -->
      <linkName>firefly/imu_link</linkName>
      <!-- (string, required): name of the body which holds the IMU sensor -->
      <imuTopic>imu</imuTopic>
      <!-- (string): name of the sensor output topic and prefix of service names (defaults to imu) -->
      <gyroscopeNoiseDensity>0.0003394</gyroscopeNoiseDensity>
      <!-- Gyroscope noise density (two-sided spectrum) [rad/s/sqrt(Hz)] -->
      <gyroscopeRandomWalk>3.8785e-05</gyroscopeRandomWalk>
      <!-- Gyroscope bias random walk [rad/s/s/sqrt(Hz)] -->
      <gyroscopeBiasCorrelationTime>1000.0</gyroscopeBiasCorrelationTime>
      <!-- Gyroscope bias correlation time constant [s] -->
      <gyroscopeTurnOnBiasSigma>0.0087</gyroscopeTurnOnBiasSigma>
      <!-- Gyroscope turn on bias standard deviation [rad/s] -->
      <accelerometerNoiseDensity>0.004</accelerometerNoiseDensity>
      <!-- Accelerometer noise density (two-sided spectrum) [m/s^2/sqrt(Hz)] -->
      <accelerometerRandomWalk>0.006</accelerometerRandomWalk>
      <!-- Accelerometer bias random walk. [m/s^2/s/sqrt(Hz)] -->
      <accelerometerBiasCorrelationTime>300.0</accelerometerBiasCorrelationTime>
      <!-- Accelerometer bias correlation time constant [s] -->
      <accelerometerTurnOnBiasSigma>0.196</accelerometerTurnOnBiasSigma>
      <!-- Accelerometer turn on bias standard deviation [m/s^2] -->
    </plugin>
  </gazebo>

  <link name="firefly/os1_sensor">
      <inertial>
         <inertia ixx="0.000090623" ixy="0.0" ixz="0.0" iyy="0.000090623" iyz="0.0" izz="0.000091036" /> -->
         <mass value="0.01" />
         <inertia ixx="1e-6" ixy="0.0" ixz="0.0" iyy="1e-6" iyz="0.0" izz="1e-6" /> 
      </inertial>
    </link>
    <link name="firefly/velodyne_base">
      <inertial>
         <inertia ixx="0.001087473" ixy="0.0" ixz="0.0" iyy="0.001087473" iyz="0.0" izz="0.001092437" /> -->
         <mass value="0.01" />
         <inertia ixx="1e-6" ixy="0.0" ixz="0.0" iyy="1e-6" iyz="0.0" izz="1e-6" /> 
      </inertial>
    </link>
    <joint type="fixed" name="joint">
      <origin xyz="0 0 -0.036785" rpy="0 0 0" />
      <parent link="firefly/velodyne_base" />
      <child link="firefly/os1_sensor" />
      <axis>
        <xyz>0 0 1</xyz>
        <limit>
          <lower>-10000000000000000</lower>
          <upper>10000000000000000</upper>
        </limit>
      </axis>
    </joint>
    <joint type="fixed" name="fixed_velodyne">
      <origin xyz="0 0 0" rpy="0 0 0" />
      <parent link="firefly/base_link" />
      <child link="firefly/velodyne_base" />
    </joint>
    <gazebo reference="firefly/os1_sensor">
     <sensor type="ray" name="laser_scan">
      <pose>0 0 -0.004645 0 0 0</pose>
      <visualize>false</visualize>
      <update_rate>10</update_rate>
      <ray>
        <scan>
            <horizontal>
              <samples>512</samples>
              <resolution>1</resolution>
              <min_angle>-3.14159</min_angle>
              <max_angle>3.14159</max_angle>
            </horizontal>
            <vertical>
              <samples>16</samples>
              <resolution>1</resolution>
              <min_angle>-0.2897247</min_angle>
              <max_angle>0.2897247</max_angle>
            </vertical>
        </scan>
        <range>
            <min>0.8</min>
            <max>120</max>
            <resolution>0.012</resolution>
        </range>
        <noise>
            <type>gaussian</type>
            <mean>0.0</mean>
            <stddev>0.0</stddev>
        </noise>
      </ray>
      <plugin name="firefly_gazebo_ros_laser_controller" filename="libgazebo_ros_velodyne_laser.so">
          <!--<topicName>firefly/os1_cloud_node/points</topicName> -->
          <topicName>firefly/os1_cloud_node/points</topicName>
          <frameName>firefly/os1_sensor</frameName>
          <min_range>0.8</min_range>
          <max_range>120.0</max_range>
          <gaussianNoise>0.03</gaussianNoise>  
      </plugin>
     </sensor>
    </gazebo>

  <!-- odometry link -->
  <link name="firefly/odometry_sensor1_link">
    <inertial>
      <inertia ixx="0.00001" ixy="0.0" ixz="0.0" iyy="0.00001" iyz="0.0" izz="0.00001"/>
      <mass value="1e-05"/>
      <!-- [kg] -->
    </inertial>
  </link>

  <!-- odometry joint -->
  <joint name="firefly/odometry_sensor1_joint" type="revolute">
    <parent link="firefly/base_link"/>
    <origin rpy="0.0 0.0 0.0" xyz="0.0 0.0 0.0"/>
    <child link="firefly/odometry_sensor1_link"/>
    <limit effort="0" lower="0" upper="0" velocity="0"/>
  </joint>
  
  <gazebo>
    <plugin filename="librotors_gazebo_odometry_plugin.so" name="odometry_sensor1">
      <linkName>firefly/odometry_sensor1_link</linkName>
      <robotNamespace>firefly</robotNamespace>
      <poseTopic>pose</poseTopic>
      <poseWithCovarianceTopic>pose_with_covariance</poseWithCovarianceTopic>
      <positionTopic>ground_truth/position</positionTopic>
      <transformTopic>ground_truth/transform</transformTopic>
      <odometryTopic>ground_truth/odometry</odometryTopic>
      <parentFrameId>world</parentFrameId>
      <!-- Use the scoped link name here. e.g. Model::link. -->
      <childFrameId>firefly/odometry_sensor1</childFrameId>
      <measurementDivisor>1</measurementDivisor>
      <!-- only every (seq % measurementDivisor) == 0 measurement is published [int] -->
      <measurementDelay>0</measurementDelay>
      <!-- time that measurement gets held back before it's published in [simulation cycles (int)] -->
      <unknownDelay>0.0</unknownDelay>
      <!-- additional delay, that just gets added to the timestamp [s] -->
      <noiseNormalPosition>0 0 0</noiseNormalPosition>
      <!-- standard deviation of additive white gaussian noise [m] -->
      <noiseNormalQuaternion>0 0 0</noiseNormalQuaternion>
      <!-- standard deviation white gaussian noise [rad]: q_m = q*quaternionFromSmallAngleApproximation(noiseNormalQ) -->
      <noiseNormalLinearVelocity>0 0 0</noiseNormalLinearVelocity>
      <!-- standard deviation of additive white gaussian noise [m/s] -->
      <noiseNormalAngularVelocity>0 0 0</noiseNormalAngularVelocity>
      <!-- standard deviation of additive white gaussian noise [rad/s] -->
      <noiseUniformPosition>0 0 0</noiseUniformPosition>
      <!-- symmetric bounds of uniform noise [m] -->
      <noiseUniformQuaternion>0 0 0</noiseUniformQuaternion>
      <!-- symmetric bounds of uniform noise [rad], computation see above -->
      <noiseUniformLinearVelocity>0 0 0</noiseUniformLinearVelocity>
      <!-- symmetric bounds of uniform noise [m/s] -->
      <noiseUniformAngularVelocity>0 0 0</noiseUniformAngularVelocity>
    </plugin>
  </gazebo>


</robot>
